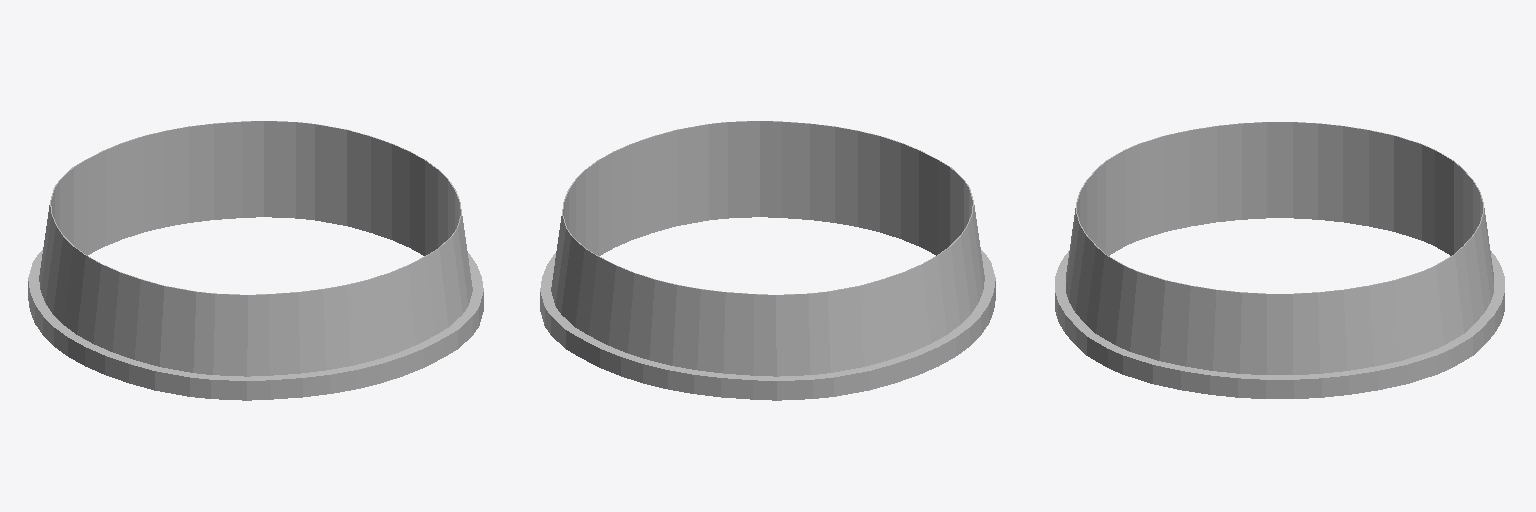
File: GoldRing.obj
3 renders of one model, left to right at view 1: azimuth 30°, elevation 25°; view 2: azimuth 150°, elevation 25°; view 3: azimuth 270°, elevation 25°, orthographic.
Visible parts, largest first — view 1: entity0_brush31, entity0_brush1, entity0_brush49, entity0_brush20, entity0_brush21, entity0_brush29, entity0_brush41, entity0_brush28, entity0_brush22, entity0_brush79, entity0_brush9, entity0_brush38 (+28 smaller); view 2: entity0_brush30, entity0_brush1, entity0_brush49, entity0_brush19, entity0_brush18, entity0_brush27, entity0_brush43, entity0_brush26, entity0_brush24, entity0_brush78, entity0_brush6, entity0_brush36 (+28 smaller); view 3: entity0_brush0, entity0_brush48, entity0_brush7, entity0_brush8, entity0_brush19, entity0_brush20, entity0_brush2, entity0_brush5, entity0_brush11, entity0_brush13, entity0_brush1, entity0_brush3 (+28 smaller).
Part boxes in pixels (bbox=[...]): entity0_brush31: bbox=[297, 278, 417, 373]; entity0_brush1: bbox=[45, 243, 115, 352]; entity0_brush49: bbox=[30, 291, 130, 383]; entity0_brush20: bbox=[168, 286, 241, 375]; entity0_brush21: bbox=[311, 123, 346, 206]; entity0_brush29: bbox=[264, 121, 295, 198]; entity0_brush41: bbox=[214, 121, 246, 200]; entity0_brush28: bbox=[216, 293, 297, 375]; entity0_brush22: bbox=[202, 292, 268, 376]; entity0_brush79: bbox=[301, 345, 416, 393]; entity0_brush9: bbox=[105, 265, 163, 367]; entity0_brush38: bbox=[189, 123, 216, 203]; entity0_brush30: bbox=[606, 278, 726, 373]; entity0_brush1: bbox=[908, 243, 978, 352]; entity0_brush49: bbox=[893, 291, 993, 383]; entity0_brush19: bbox=[782, 286, 855, 375]; entity0_brush18: bbox=[677, 123, 712, 206]; entity0_brush27: bbox=[728, 121, 759, 198]; entity0_brush43: bbox=[777, 121, 809, 200]; entity0_brush26: bbox=[726, 293, 807, 375]; entity0_brush24: bbox=[755, 292, 821, 376]; entity0_brush78: bbox=[607, 345, 722, 393]; entity0_brush6: bbox=[860, 265, 918, 367]; entity0_brush36: bbox=[807, 123, 834, 203]; entity0_brush0: bbox=[1209, 294, 1350, 374]; entity0_brush48: bbox=[1179, 370, 1380, 398]; entity0_brush7: bbox=[1155, 289, 1234, 365]; entity0_brush8: bbox=[1325, 289, 1404, 365]; entity0_brush19: bbox=[1394, 136, 1425, 220]; entity0_brush20: bbox=[1134, 136, 1165, 220]; entity0_brush2: bbox=[1181, 292, 1265, 369]; entity0_brush5: bbox=[1294, 292, 1378, 369]; entity0_brush11: bbox=[1343, 126, 1376, 206]; entity0_brush13: bbox=[1183, 126, 1216, 206]; entity0_brush1: bbox=[1267, 122, 1292, 198]; entity0_brush3: bbox=[1293, 122, 1321, 199].
Bounding box in the file's own units: 10.5 × 2.48 × 10.5.